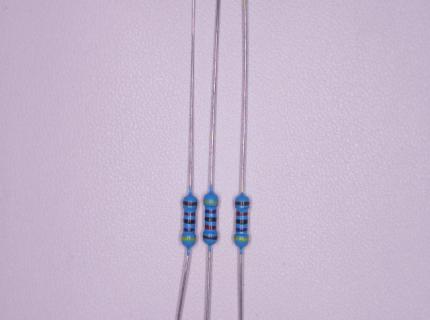Black band: (236, 220, 248, 225), (204, 217, 216, 222), (184, 219, 195, 224), (183, 228, 194, 232)
Brown band: (183, 201, 198, 206), (235, 201, 250, 206), (203, 235, 218, 240)
Red band: (205, 224, 216, 230), (236, 211, 248, 216), (184, 212, 196, 216)
Violet band: (205, 209, 216, 214), (236, 228, 248, 232)
Yellow band: (234, 236, 249, 242), (203, 200, 218, 205), (181, 236, 196, 241)
